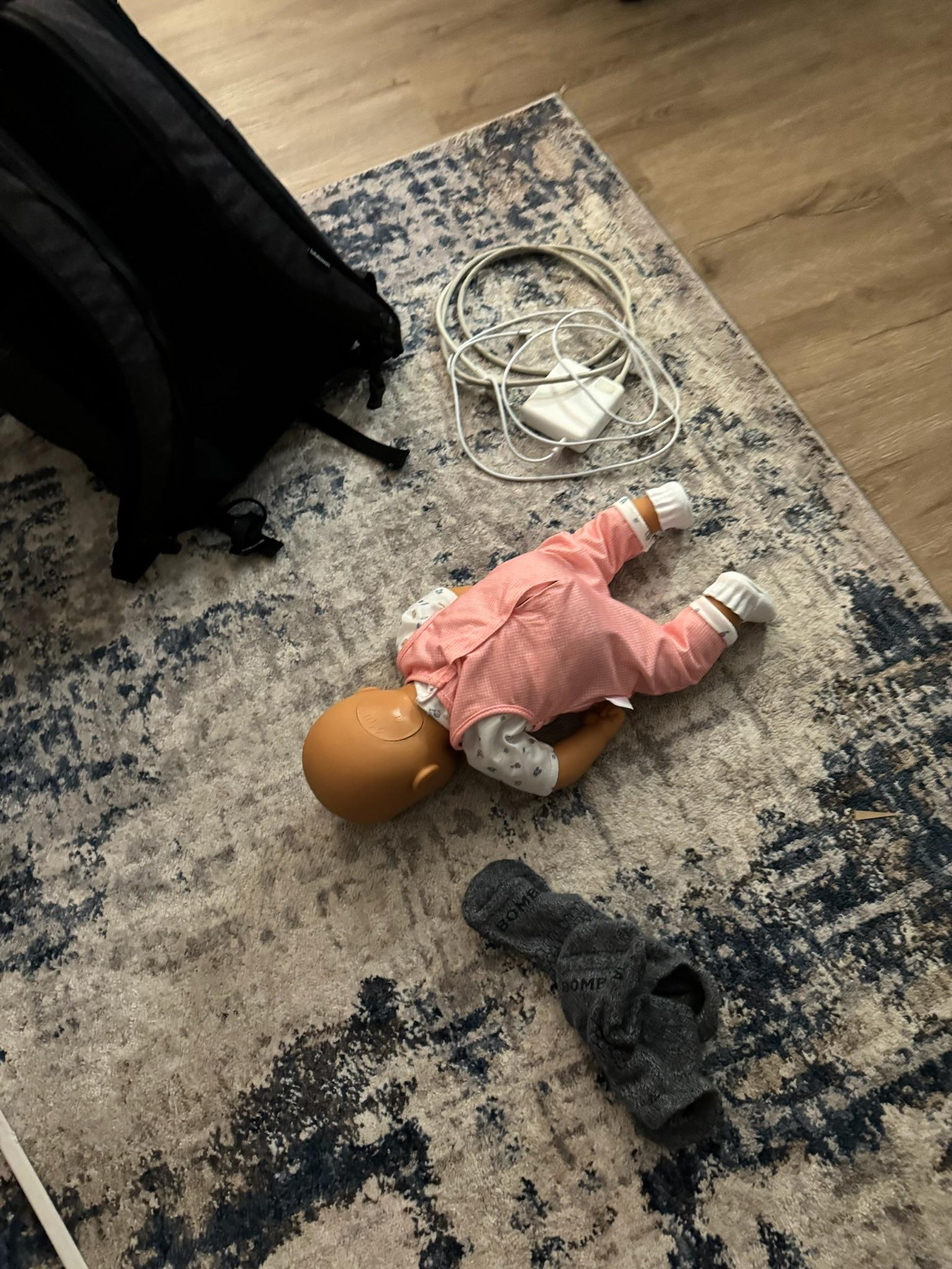baby: (283, 463, 762, 853)
